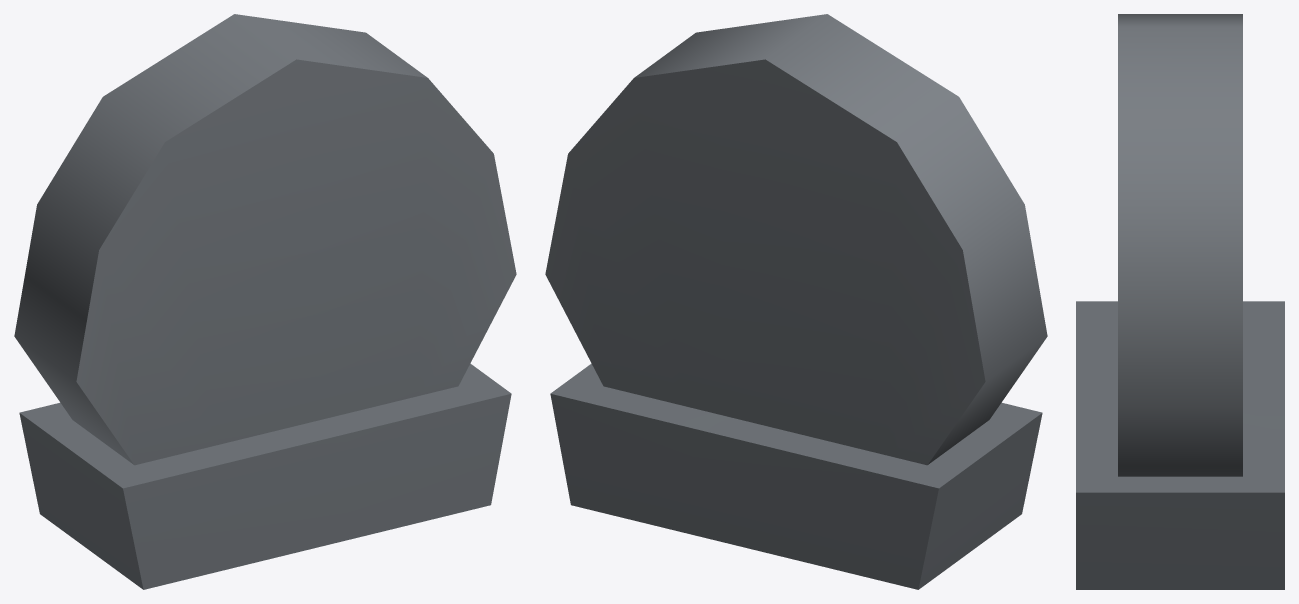
The model's file is grave_stone3.fbx.
The picture shows the model from 3 angles, left to right: view 1: azimuth 30°, elevation 25°; view 2: azimuth 150°, elevation 25°; view 3: azimuth 270°, elevation 25°; orthographic projection.
Visible parts, largest first — view 1: grave_stone3; view 2: grave_stone3; view 3: grave_stone3.
Part boxes in pixels (x1,y1,x2,y2): grave_stone3: [14, 14, 516, 589]; grave_stone3: [545, 14, 1047, 589]; grave_stone3: [1076, 14, 1284, 589].
Size of the model in its own units: 4.09 by 4.2 by 1.67.
